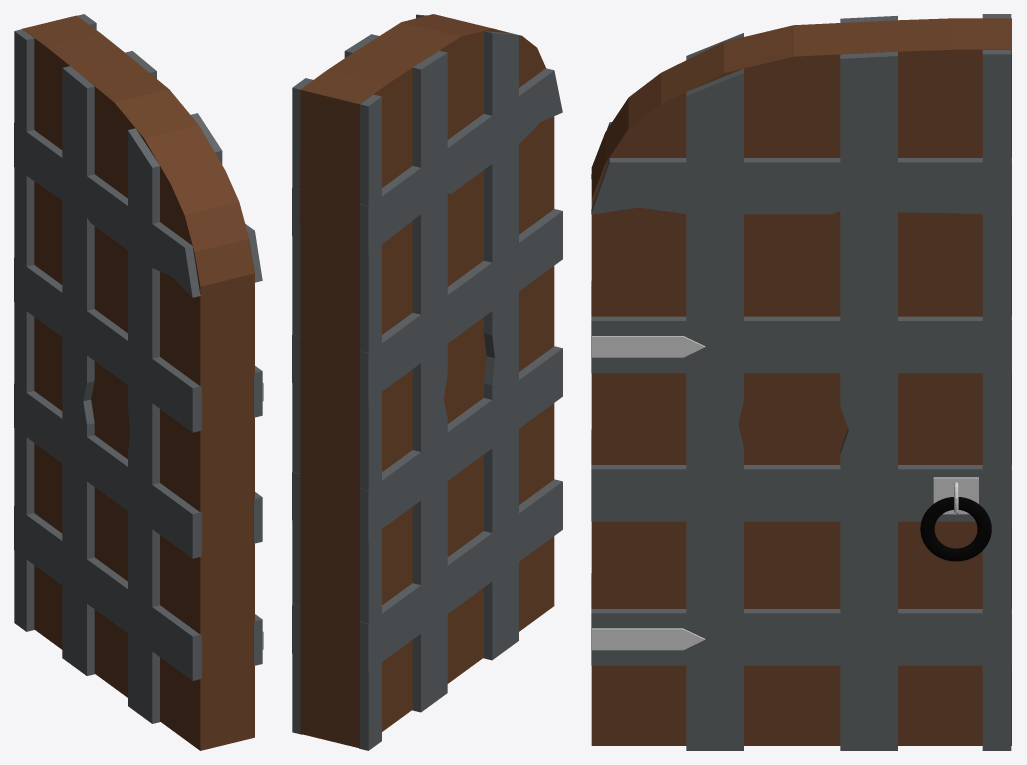
Rendered from Tür.fbx.
3 views of the same model, side by side, from view 1: azimuth 30°, elevation 25°; view 2: azimuth 150°, elevation 25°; view 3: azimuth 270°, elevation 25° (orthographic). The views are drawn at different scales.
Visible parts, largest first — view 1: Cube, Cube.014, Cube.004; view 2: Cube, Cube.014, Cube.004; view 3: Cube.004, Cube, Torus, Cube.009, Cube.010, Cube.008, Cube.014.
Part boxes in pixels (bbox=[...]): Cube: bbox=[22, 15, 254, 750]; Cube.014: bbox=[14, 29, 201, 723]; Cube.004: bbox=[77, 14, 262, 665]; Cube: bbox=[299, 14, 554, 748]; Cube.014: bbox=[359, 31, 562, 750]; Cube.004: bbox=[292, 14, 427, 734]; Cube.004: bbox=[591, 50, 1011, 750]; Cube: bbox=[591, 18, 1011, 745]; Torus: bbox=[920, 497, 991, 561]; Cube.009: bbox=[592, 628, 705, 650]; Cube.010: bbox=[592, 336, 705, 357]; Cube.008: bbox=[933, 477, 978, 514]; Cube.014: bbox=[591, 14, 1011, 607].
Size of the model in its own units: 35.84 by 247 by 135.
